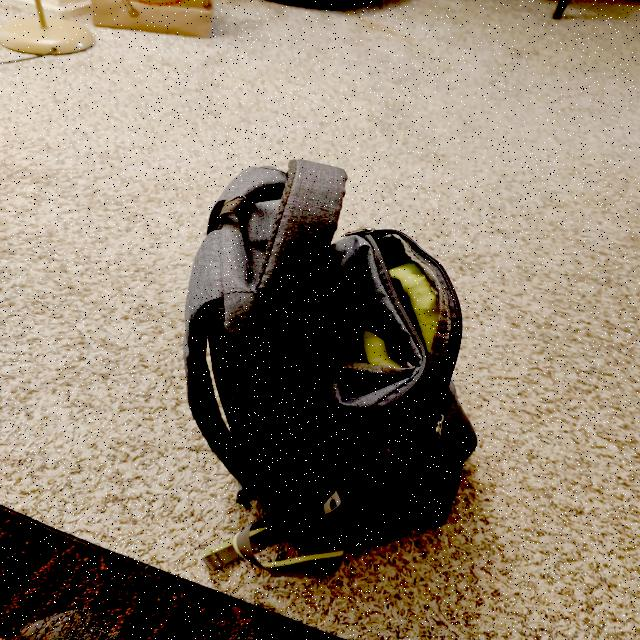bag: (185, 157, 464, 553)
